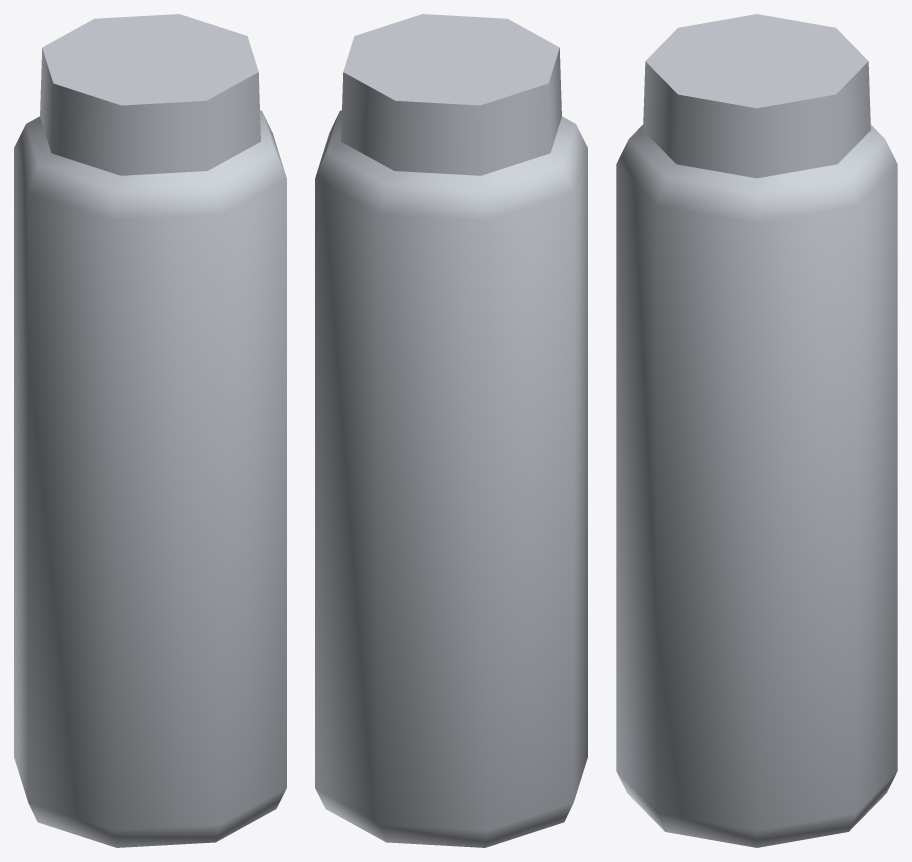
File: bottle_glassware_vial_small.glb
The picture shows the model from 3 angles, left to right: view 1: azimuth 30°, elevation 25°; view 2: azimuth 150°, elevation 25°; view 3: azimuth 270°, elevation 25°; orthographic projection.
Visible parts, largest first — view 1: bottle_glassware_vial_small, bottle_glassware_vial_small_cap; view 2: bottle_glassware_vial_small, bottle_glassware_vial_small_cap; view 3: bottle_glassware_vial_small, bottle_glassware_vial_small_cap.
Part boxes in pixels (x1,y1,x2,y2): bottle_glassware_vial_small: (14,110,286,847); bottle_glassware_vial_small_cap: (40,14,260,175); bottle_glassware_vial_small: (315,110,587,847); bottle_glassware_vial_small_cap: (341,14,561,175); bottle_glassware_vial_small: (616,124,897,847); bottle_glassware_vial_small_cap: (643,14,870,178).
Bounding box in the file's own units: 4.78 × 13.9 × 4.78.
2 materials, 2 textured.
